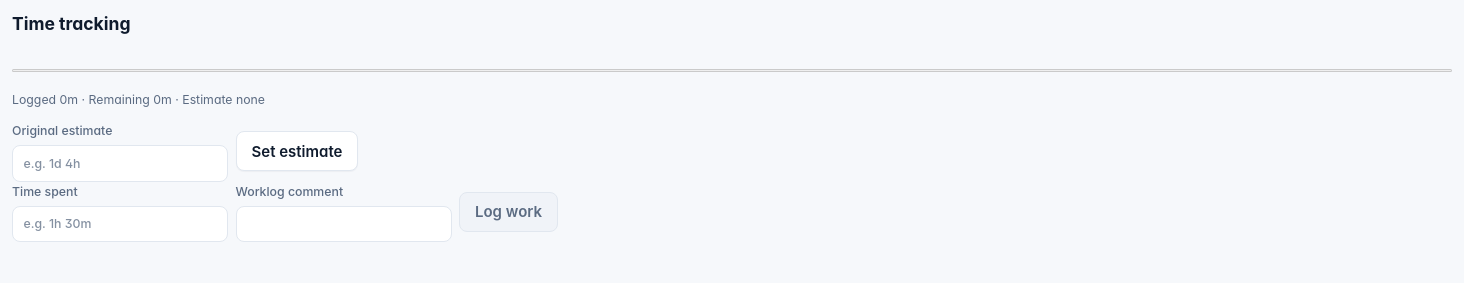
Test: IssueTimeTracking › shows a rejected duration
Check: the text "Logged 0m · Remaining 0m · Estimate none" is shown, box [12,92,265,107]
Type "ages" into the field labelled "Time spent" at [120, 224], box [12,206,228,242]
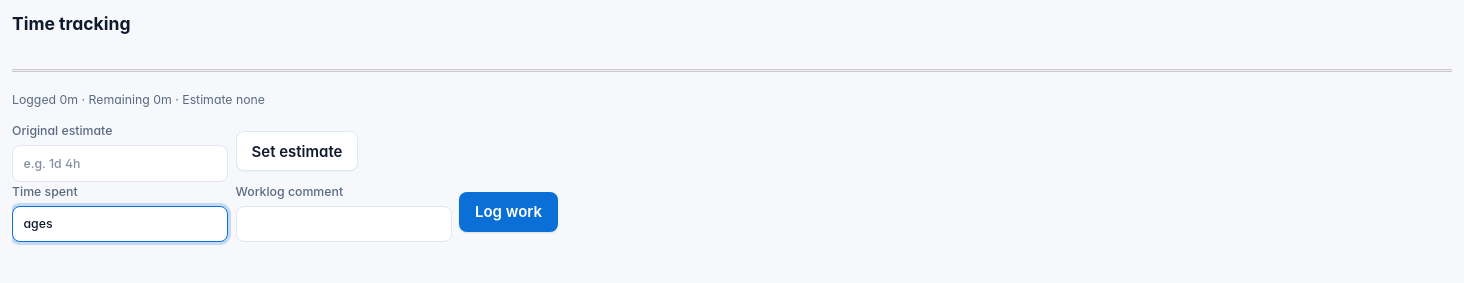
Click the button "Log work" at [508, 212], box [459,192,558,232]
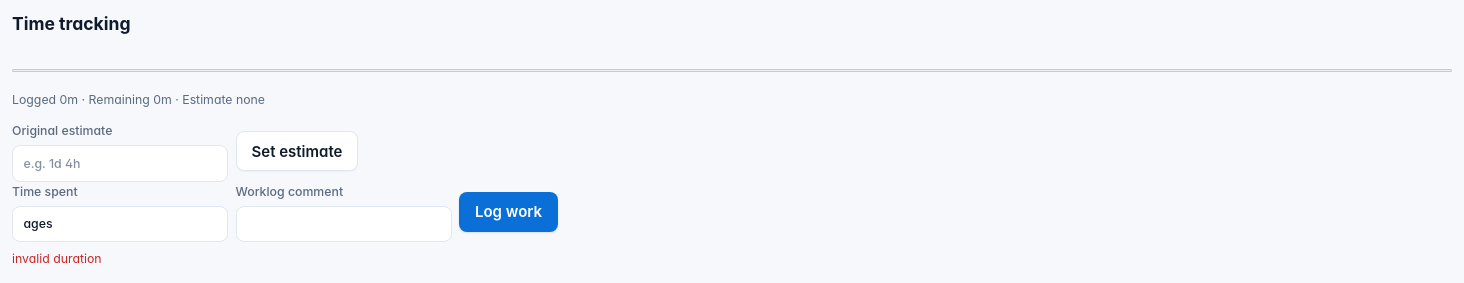
Check: the message reads "invalid duration", box [12,251,102,266]
